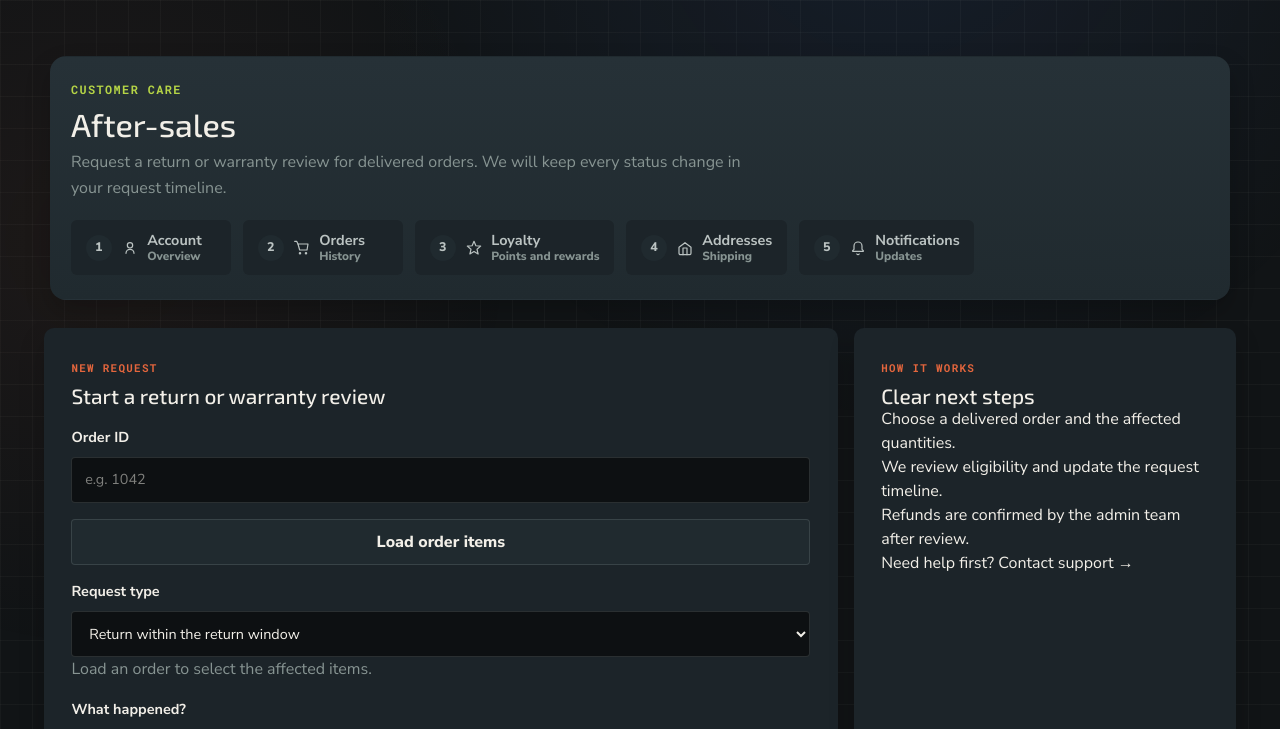
AfterSalesPage request history › shows the server-provided inclusive UTC return deadline for the loaded order
In the field labelled "Order ID": (441, 480) [71,457,810,503], type "42"
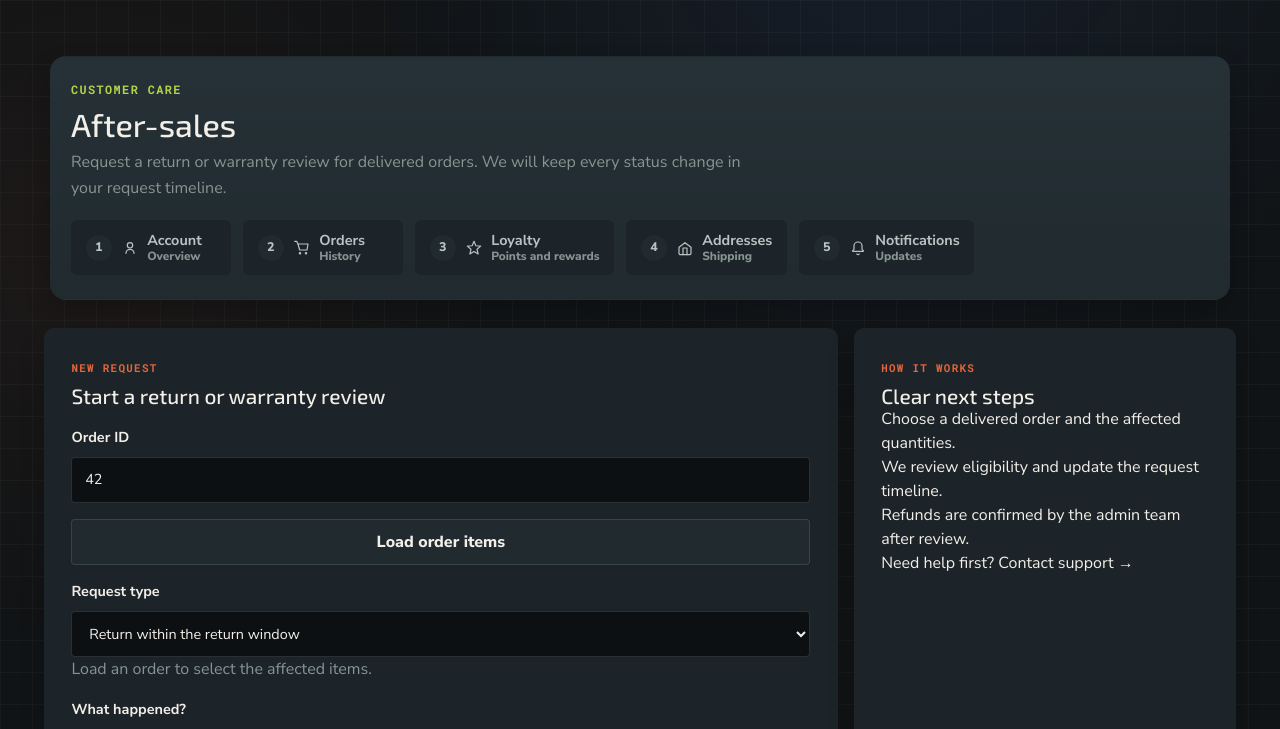
Click the button "Load order items": (441, 542) [71,519,810,566]
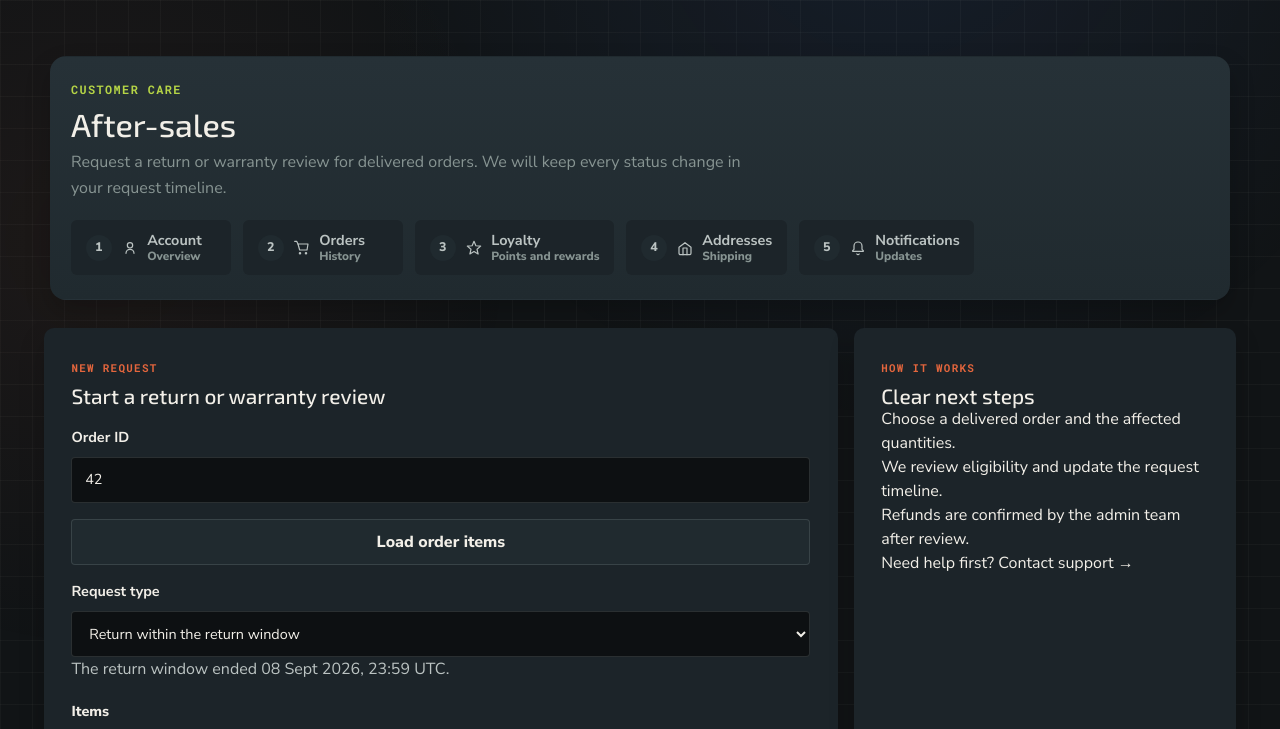
Expected: the text "The return window ended 08 Sept 2026, 23:59 UTC." is shown, [71,658,449,680]
